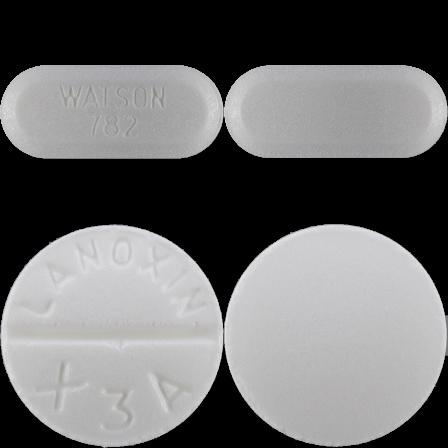66267-077: (0, 0, 224, 224)
